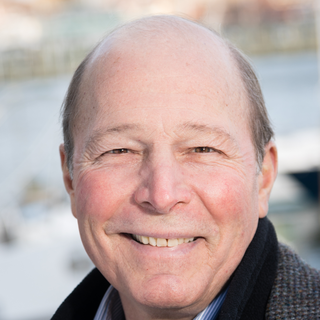eye: (178, 140, 226, 160), (93, 142, 141, 161)
